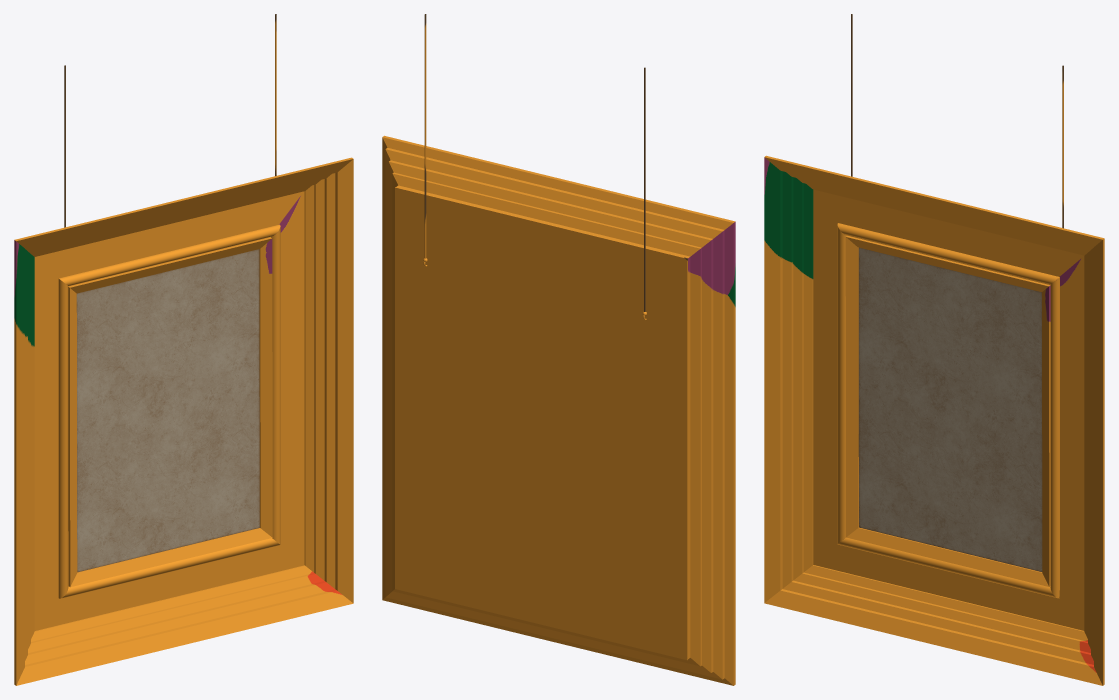
Rendered from Cuadro-1.fbx.
3 renders of one model, left to right at view 1: azimuth 30°, elevation 25°; view 2: azimuth 150°, elevation 25°; view 3: azimuth 330°, elevation 25°, orthographic. The views are drawn at different scales.
Parts seen in each view (by area): view 1: Cuadro-1-Marco, Cuadro-1-Lienzo, Cuadro-1-Atras; view 2: Cuadro-1-Atras, Cuadro-1-Marco; view 3: Cuadro-1-Marco, Cuadro-1-Lienzo, Cuadro-1-Atras.
Part boxes in pixels (<box>): Cuadro-1-Marco: <box>14,157,353,685</box>; Cuadro-1-Lienzo: <box>76,249,259,572</box>; Cuadro-1-Atras: <box>64,14,276,588</box>; Cuadro-1-Atras: <box>395,14,687,660</box>; Cuadro-1-Marco: <box>382,135,735,685</box>; Cuadro-1-Marco: <box>764,155,1104,685</box>; Cuadro-1-Lienzo: <box>858,247,1042,571</box>; Cuadro-1-Atras: <box>843,14,1063,587</box>.
Size of the model in its own units: 200 by 334 by 21.09.
